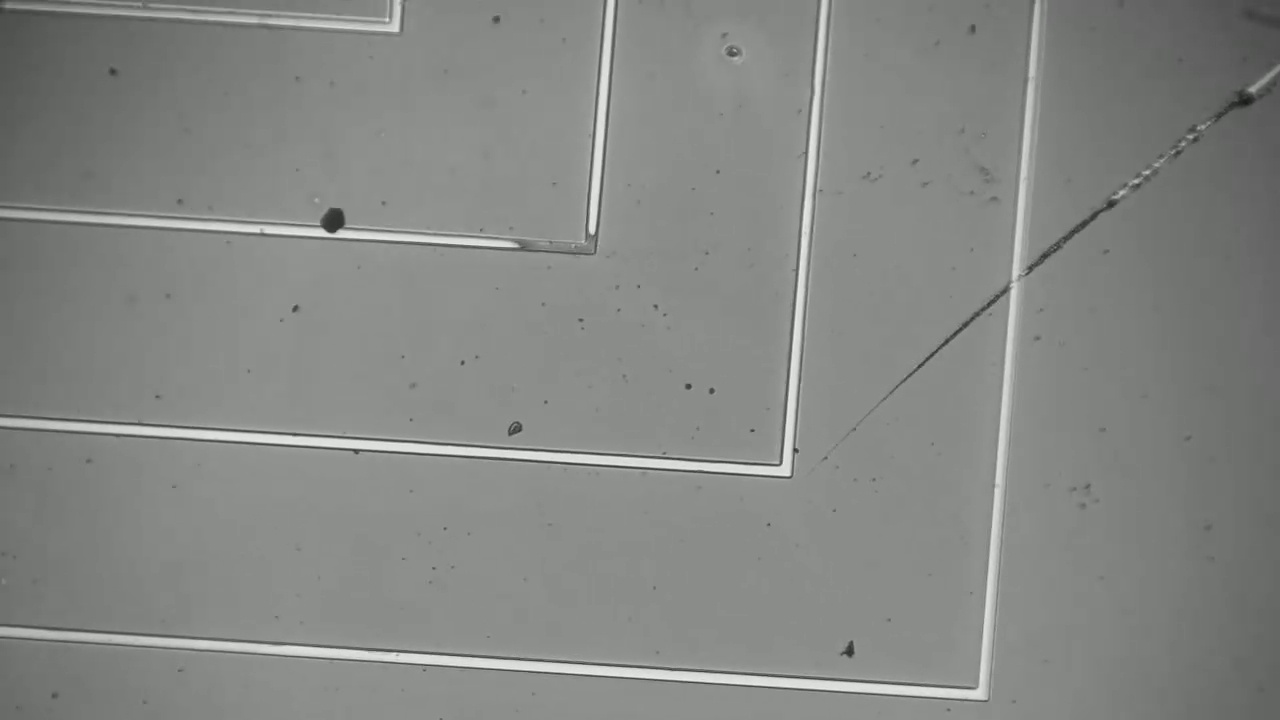gray_line: (493, 230, 617, 263), (573, 215, 607, 272)
scratch: (803, 65, 1279, 475)
stains_enbedded: (299, 194, 362, 253)
